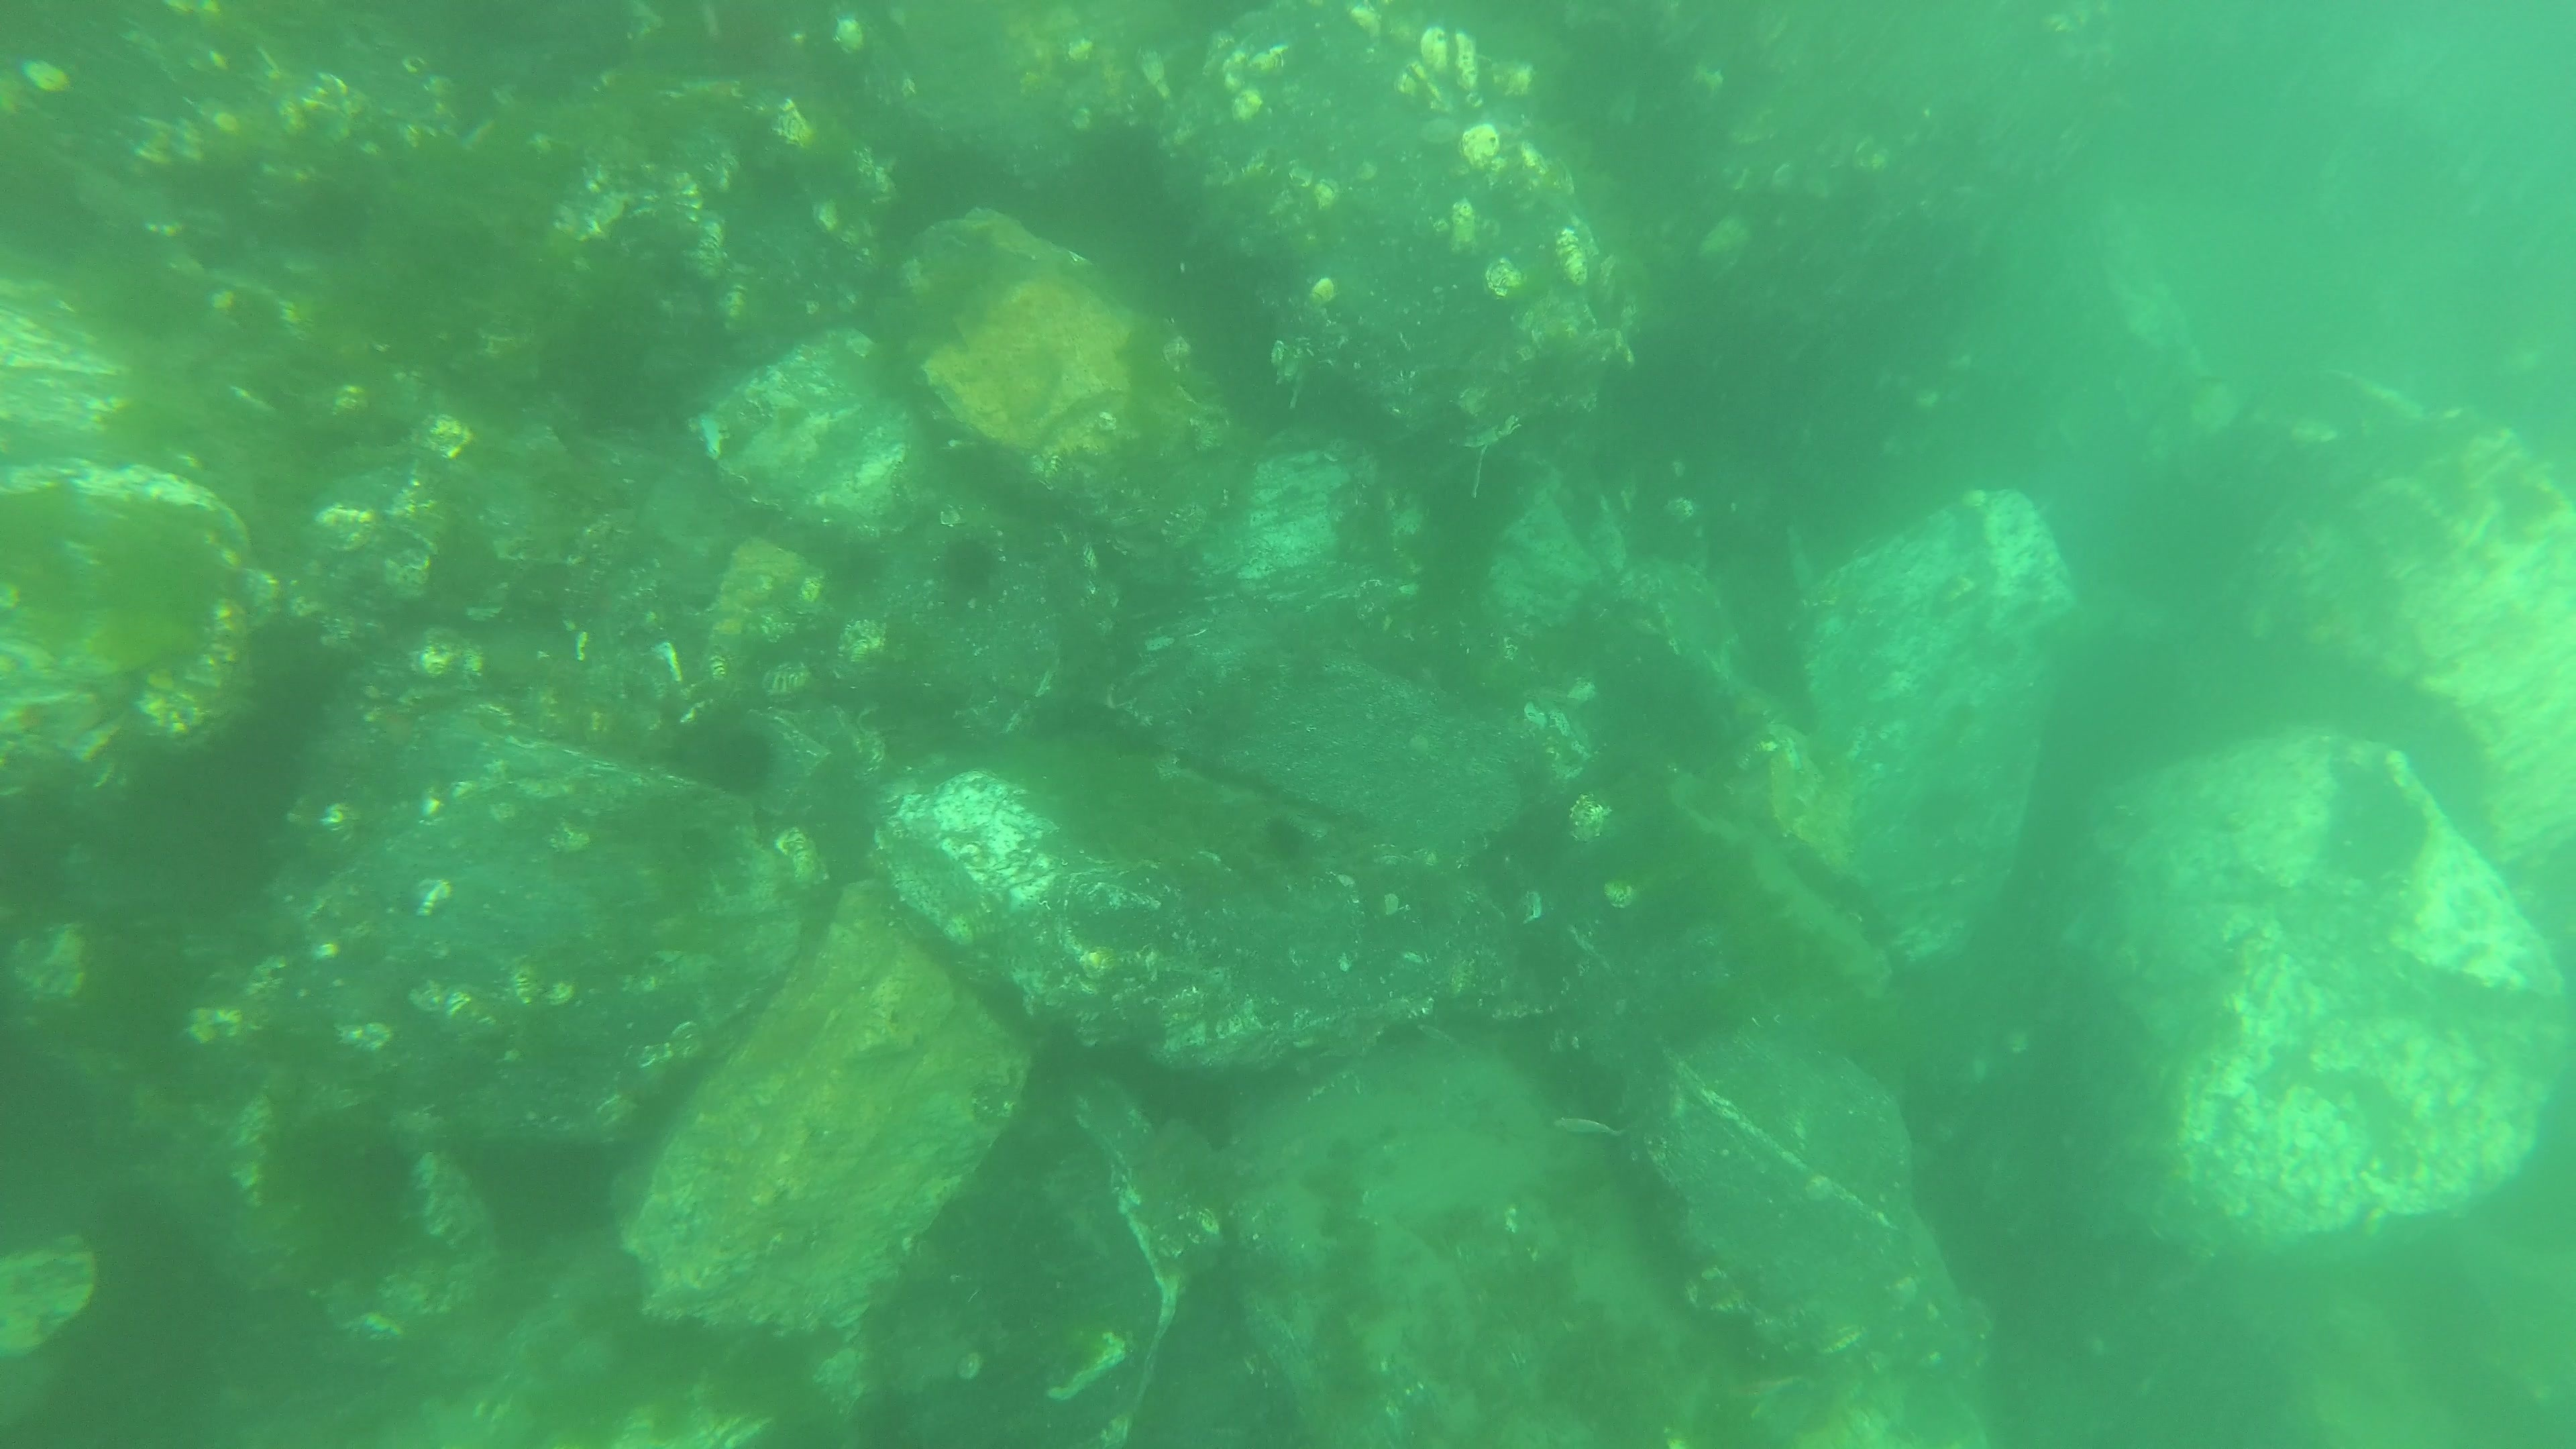echinus: (702, 731, 773, 805), (931, 534, 996, 594), (1258, 807, 1322, 867)
